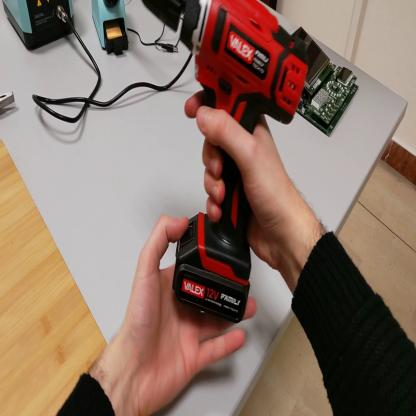electric screwdriver: (142, 2, 311, 283)
hand: (120, 210, 254, 411), (193, 98, 293, 270)
low voltage board: (288, 30, 358, 135)
pliers: (2, 87, 13, 115)
welder base: (92, 1, 132, 58)
welder station: (4, 3, 76, 48)
working area: (2, 140, 110, 414)
